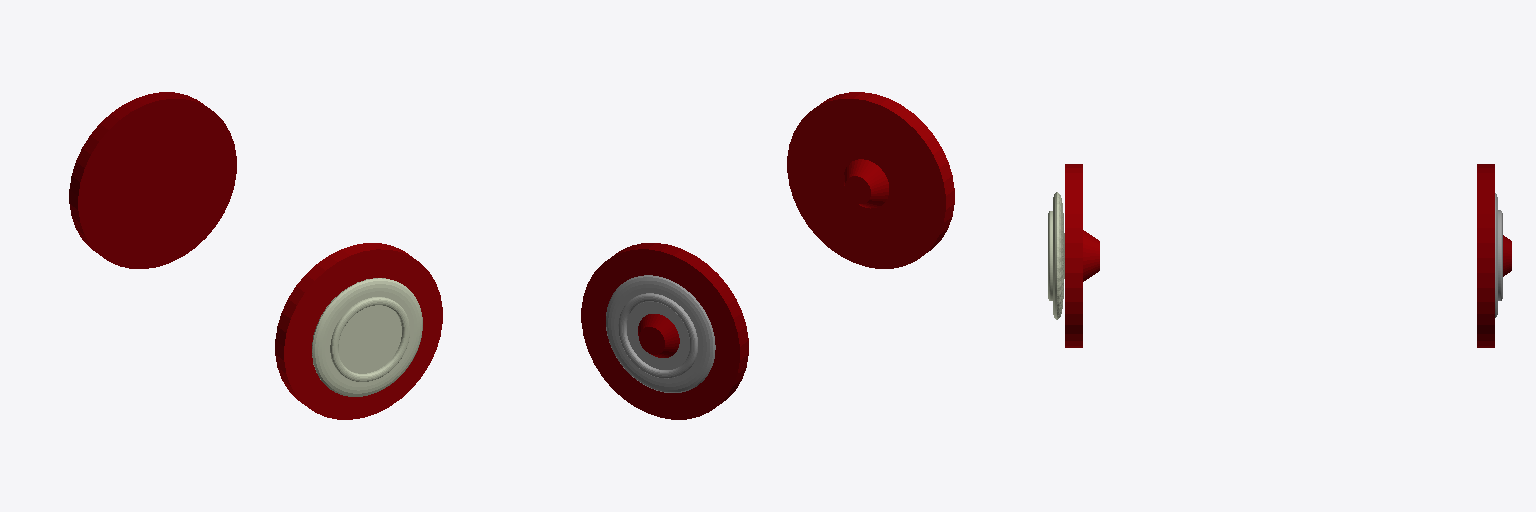
The model's file is tyre.obj.
3 renders of one model, left to right at view 1: azimuth 30°, elevation 25°; view 2: azimuth 150°, elevation 25°; view 3: azimuth 270°, elevation 25°, orthographic.
Visible parts, largest first — view 1: Cylinder.007_Cylinder.008, Cylinder.003, Cylinder.005; view 2: Cylinder.003, Cylinder.007_Cylinder.008, Cylinder.001_Cylinder.006; view 3: Cylinder.003, Cylinder.007_Cylinder.008, Cylinder.005, Cylinder.001_Cylinder.006.
Boxes of the visible parts, <box> form: Cylinder.007_Cylinder.008: <box>69,92,236,268</box>; Cylinder.003: <box>275,243,442,419</box>; Cylinder.005: <box>312,278,422,396</box>; Cylinder.003: <box>787,92,954,268</box>; Cylinder.007_Cylinder.008: <box>581,243,748,419</box>; Cylinder.001_Cylinder.006: <box>606,275,715,392</box>; Cylinder.003: <box>1065,164,1099,347</box>; Cylinder.007_Cylinder.008: <box>1477,164,1511,347</box>; Cylinder.005: <box>1048,192,1064,319</box>; Cylinder.001_Cylinder.006: <box>1495,193,1502,317</box>.
Bounding box in the file's own units: 0.324 × 0.3251 × 0.8204.